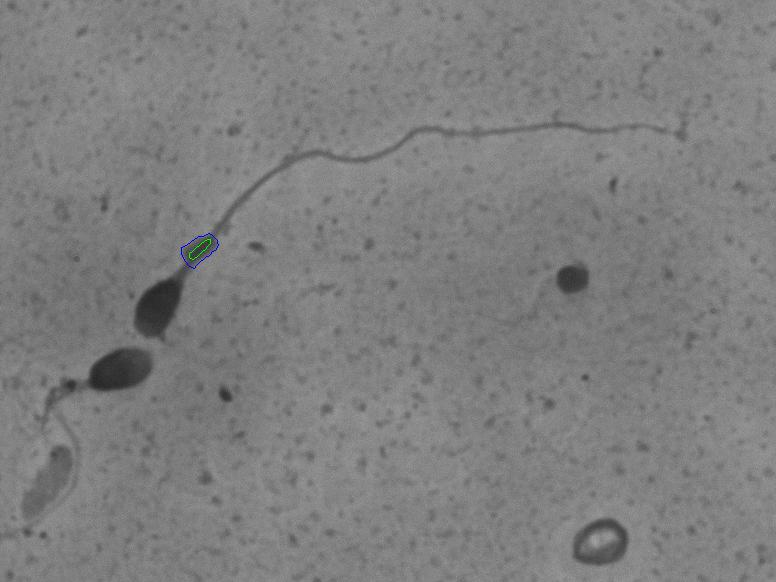Abnormal: (31, 339, 178, 483)
Normal: (118, 81, 694, 347)
